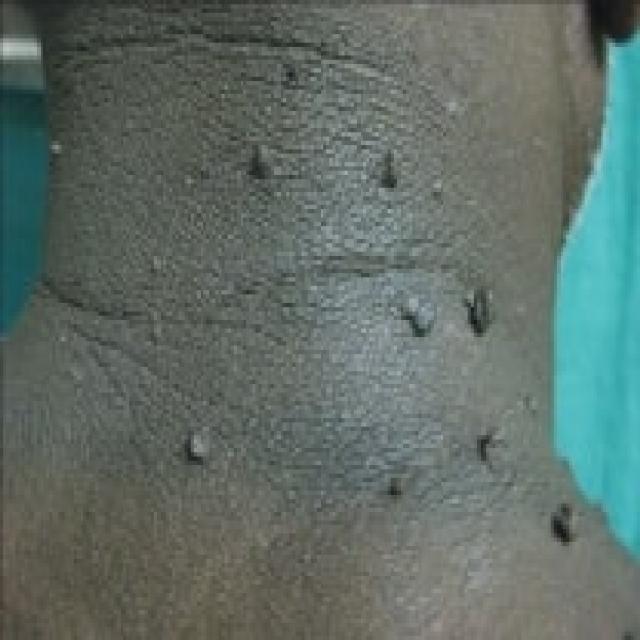Acanthosis Nigricans: (11, 3, 613, 590)
